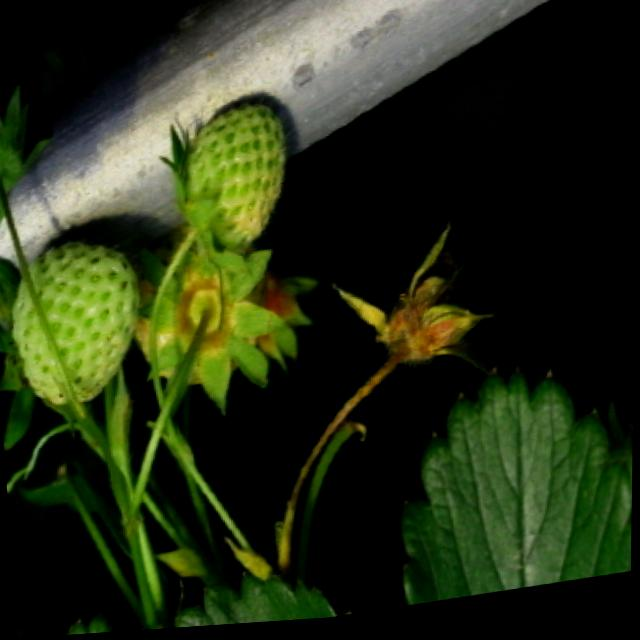Gray Mold: (333, 227, 493, 371)
